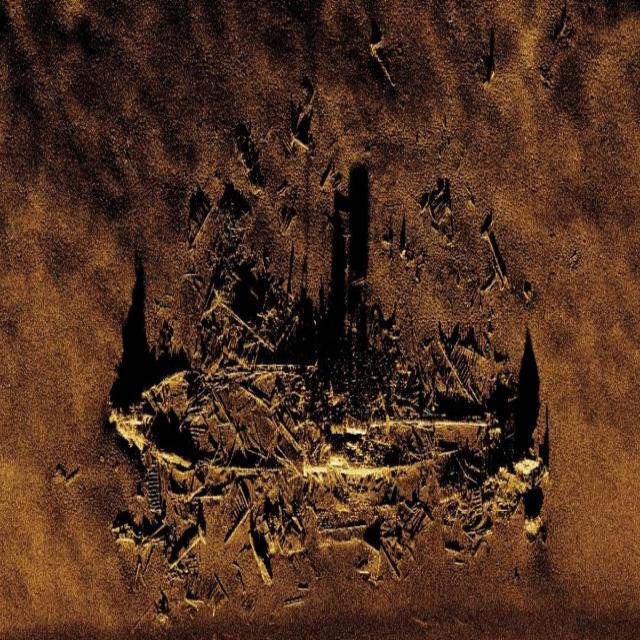ship: (85, 276, 553, 600)
